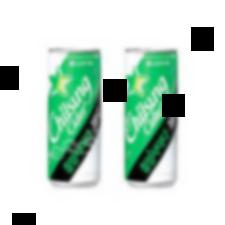chilsungcider_zero: (43, 39, 104, 188), (124, 45, 183, 192)
